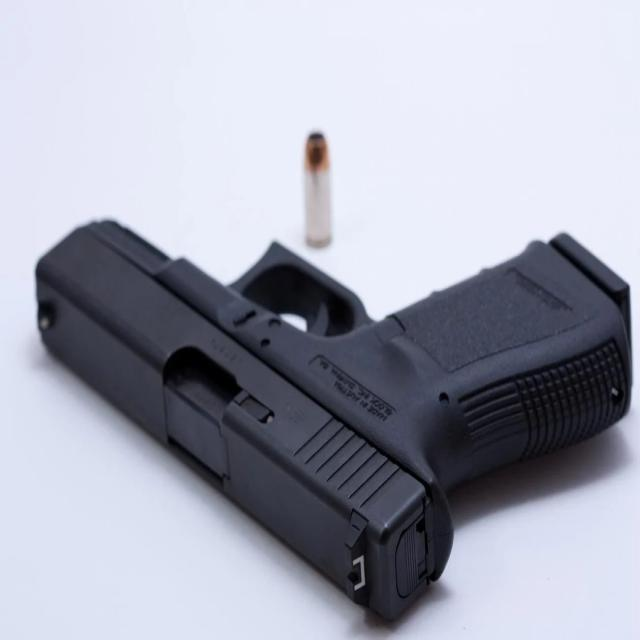pistol: (23, 190, 640, 640)
